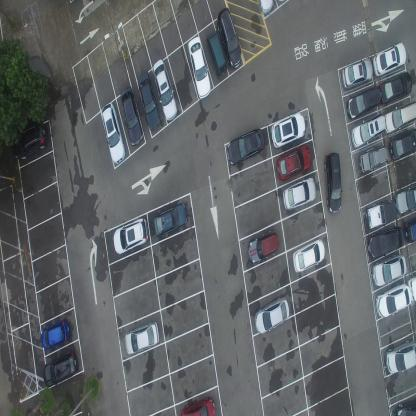car: (152, 57, 178, 123), (216, 5, 242, 69), (100, 102, 126, 166), (186, 34, 211, 98), (10, 119, 46, 162), (226, 128, 264, 168), (112, 214, 148, 255), (271, 110, 307, 150), (254, 294, 289, 335), (120, 85, 143, 147), (137, 71, 160, 131), (347, 83, 383, 120), (276, 144, 311, 182), (372, 40, 407, 78), (153, 201, 188, 238), (43, 350, 77, 388), (124, 320, 159, 356), (292, 238, 326, 274), (376, 284, 412, 318), (367, 226, 404, 259), (323, 151, 342, 214), (352, 113, 386, 148), (379, 71, 413, 106), (283, 176, 316, 212), (384, 338, 416, 375), (372, 254, 407, 287), (205, 30, 228, 80), (247, 229, 279, 263), (341, 57, 373, 90), (384, 101, 416, 134), (365, 199, 397, 229), (41, 317, 70, 350), (360, 144, 389, 174), (390, 129, 416, 162), (180, 395, 216, 415), (395, 187, 415, 215), (395, 398, 416, 416), (402, 217, 416, 243), (256, 0, 274, 15), (406, 275, 416, 302)
